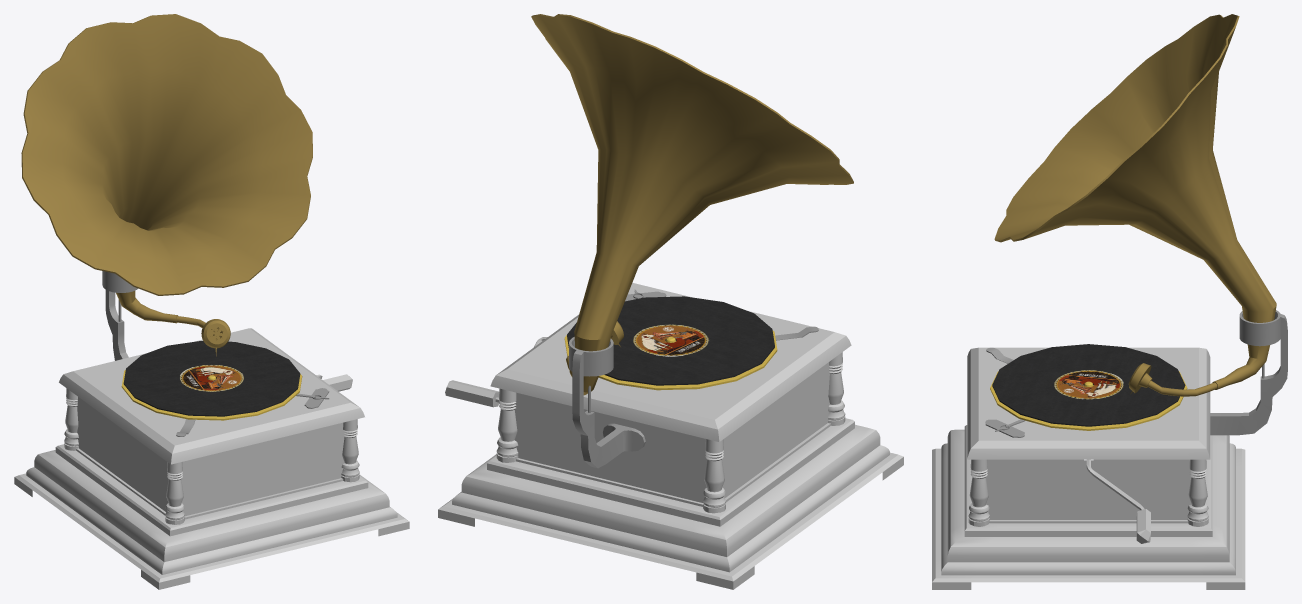
File: Antique_Gramophone.fbx
3 renders of one model, left to right at view 1: azimuth 30°, elevation 25°; view 2: azimuth 150°, elevation 25°; view 3: azimuth 270°, elevation 25°, orthographic. The views are drawn at different scales.
Visible parts, largest first — view 1: Circle, Cube, Circle.001, Cylinder, Retopo_Circle.003, Circle.002; view 2: Cube, Circle, Circle.001, Retopo_Circle.003, Cylinder, Circle.002, Circle.005; view 3: Cube, Circle, Circle.001, Retopo_Circle.003, Cylinder, Circle.002, Circle.005.
Boxes of the visible parts, x1=… form: Circle: x1=21, y1=14, x2=312, y2=356; Cube: x1=14, y1=328, x2=409, y2=589; Circle.001: x1=123, y1=341, x2=300, y2=416; Cylinder: x1=64, y1=388, x2=359, y2=524; Retopo_Circle.003: x1=102, y1=271, x2=137, y2=360; Circle.002: x1=121, y1=370, x2=302, y2=420; Cube: x1=438, y1=282, x2=903, y2=589; Circle: x1=531, y1=14, x2=853, y2=395; Circle.001: x1=567, y1=296, x2=774, y2=385; Retopo_Circle.003: x1=569, y1=337, x2=645, y2=468; Cylinder: x1=496, y1=352, x2=845, y2=513; Circle.002: x1=564, y1=330, x2=777, y2=390; Circle.005: x1=445, y1=337, x2=547, y2=407; Cube: x1=932, y1=347, x2=1245, y2=589; Circle: x1=994, y1=14, x2=1276, y2=396; Circle.001: x1=992, y1=344, x2=1185, y2=426; Retopo_Circle.003: x1=1210, y1=310, x2=1287, y2=435; Cylinder: x1=968, y1=459, x2=1208, y2=526; Circle.002: x1=990, y1=371, x2=1187, y2=430; Circle.005: x1=1086, y1=459, x2=1150, y2=543.
Size of the model in its own units: 1102 by 1429 by 959.
